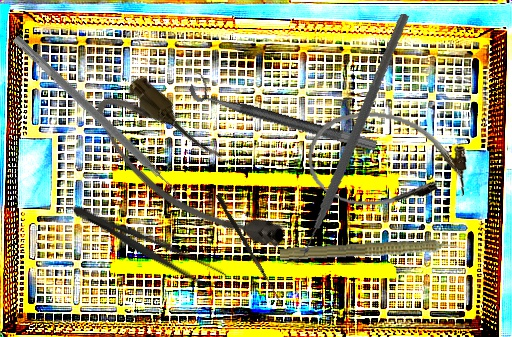Cannula: (80, 66, 300, 283), (302, 104, 473, 219)
Chopper: (243, 13, 445, 265)
Dressing Forceps: (66, 196, 229, 294)
Fixation Ring: (186, 70, 383, 153)
Handpiece: (279, 235, 470, 268)
Hook Surgical: (213, 193, 287, 304)
Spatula Surgical: (5, 34, 189, 207)
